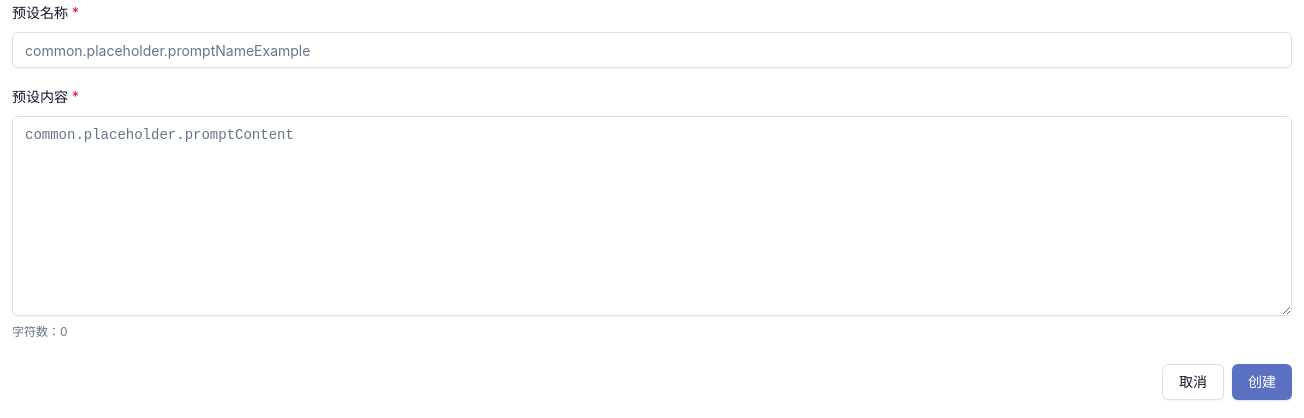
Test: PromptForm › 应该显示字符计数
The width and height of the screenshot is (1304, 418).
Type "测试内容" into the text box labelled "预设内容 *" at (652, 216), box [12, 116, 1292, 316]
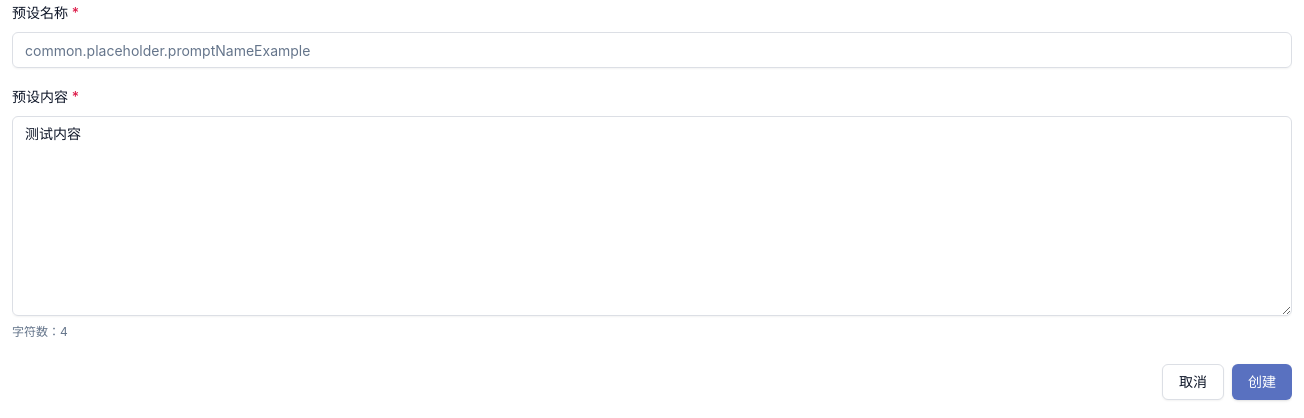
Result: the text "字符数：4" is shown at [12, 324, 68, 339]
